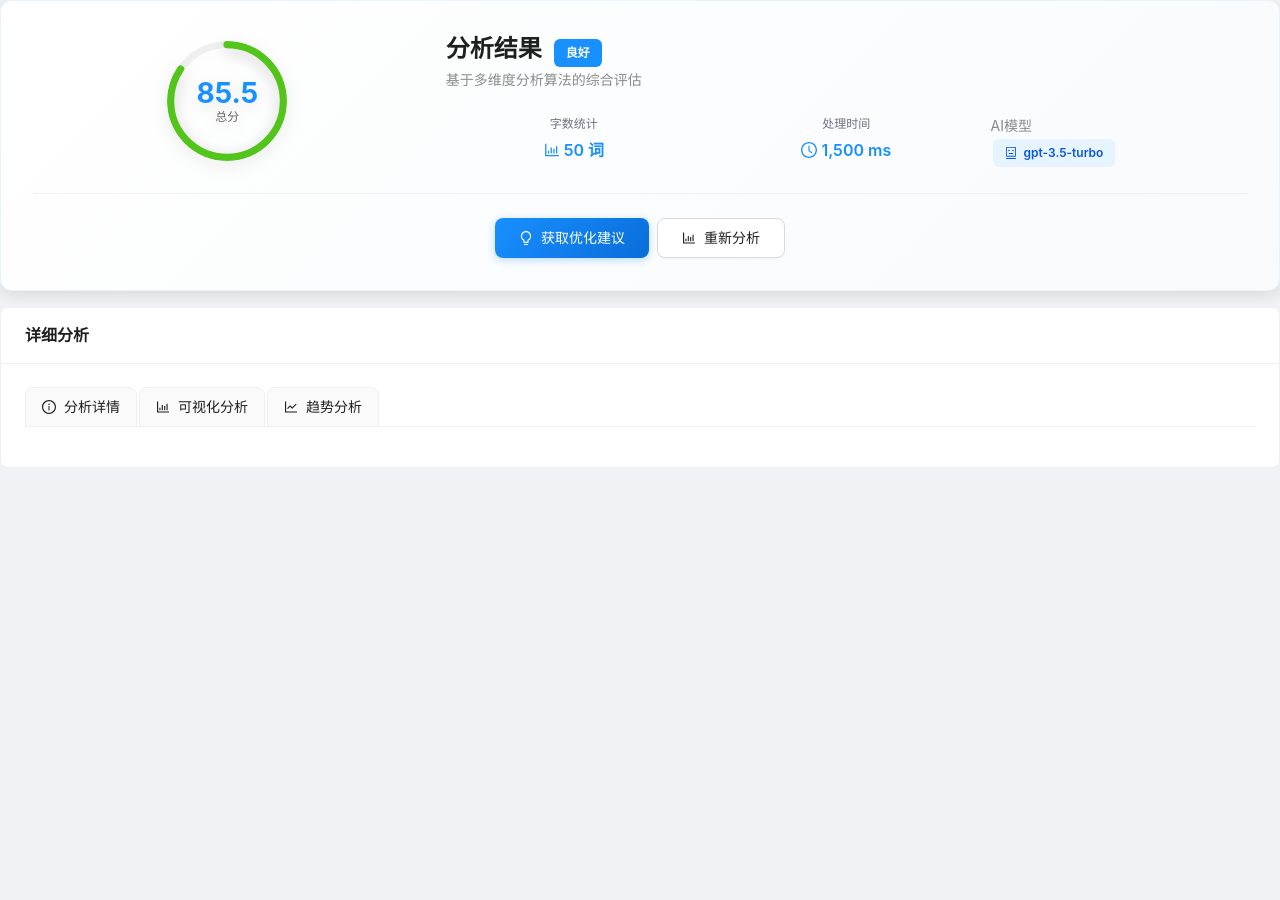
it: AnalysisResult › 应该切换到可视化标签页
The image size is (1280, 900).
Click the tab "可视化分析": (202, 407) 156,396 -> 248,418
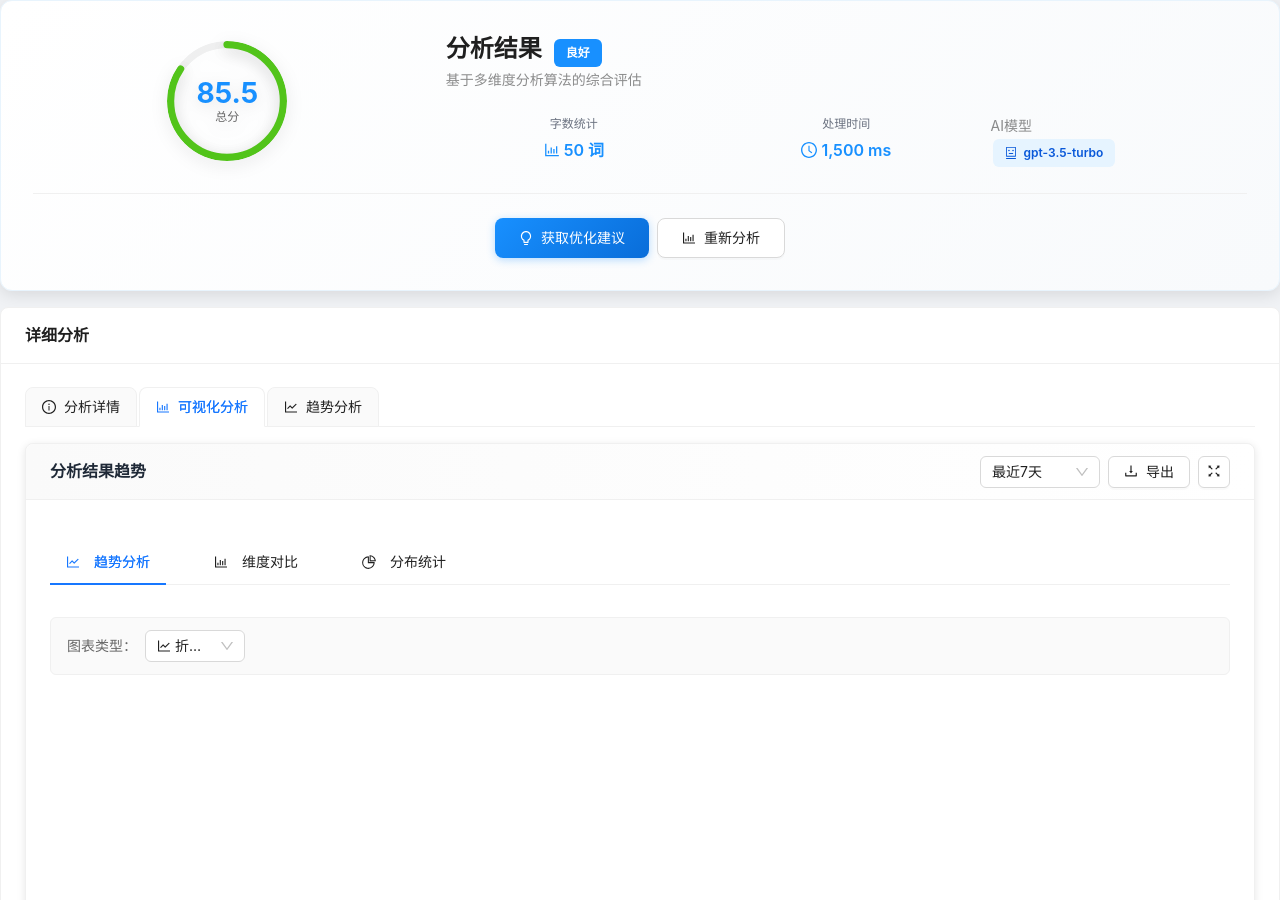
Result: the text "分析结果趋势" is shown at 50,461 -> 146,481
